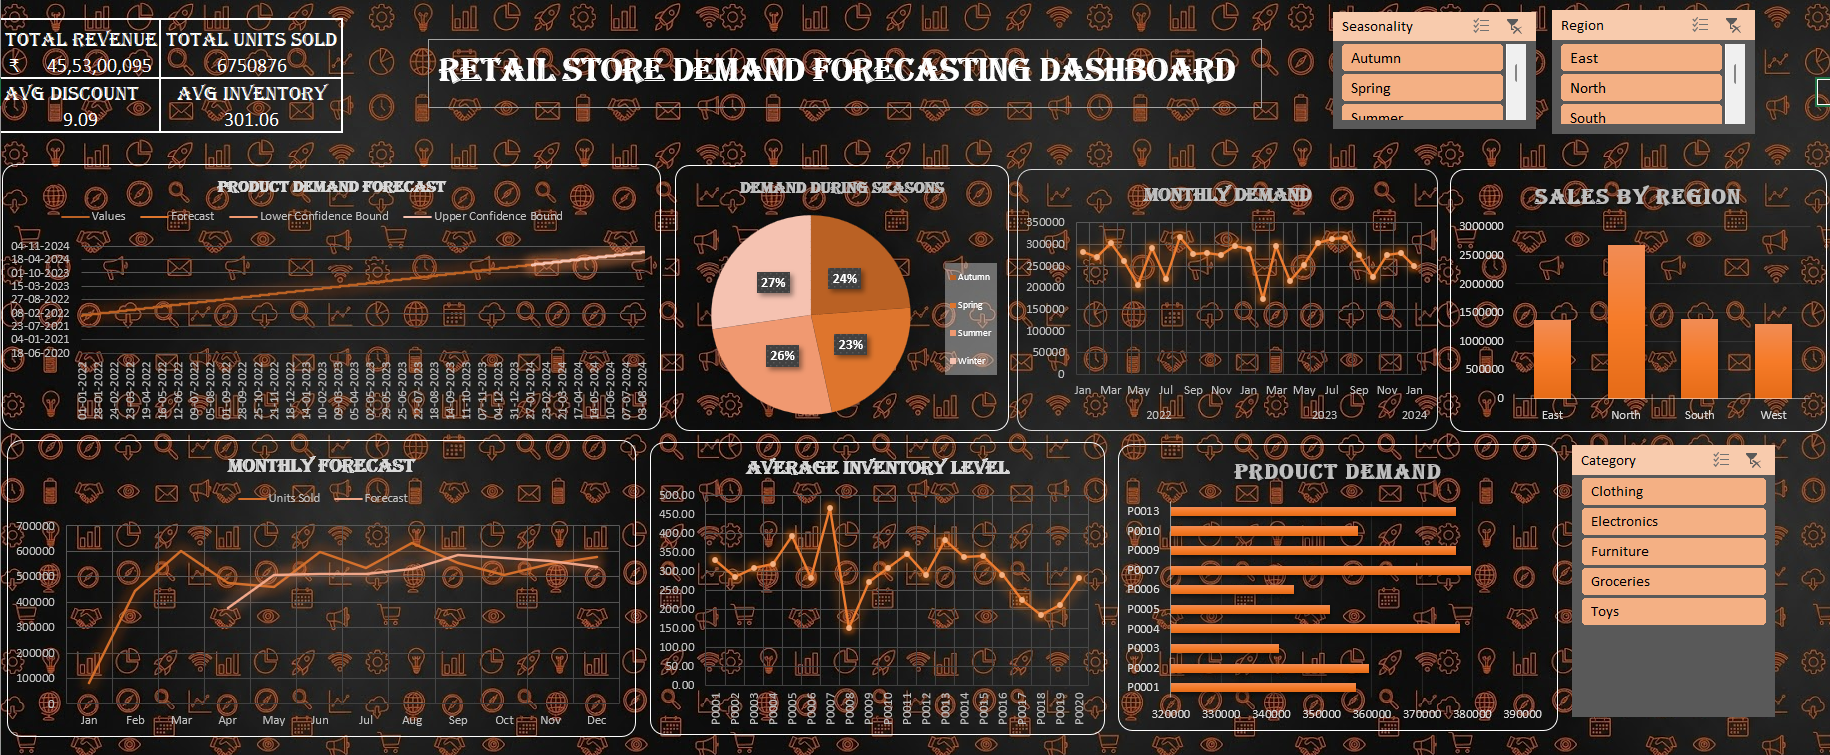

Layout of this report page (visuals, bound fields, positions):
{"tool":"tableau","page":{"name":"Dashboard 1","canvas":[1000,1000],"units":"permille","ordinal":0},"visuals":[{"type":"title","box":[5,10.1,989.9,73.4]},{"type":"image","param":"C:/Users/yasmi/Downloads/Gemini_Generated_Image_971kti971kti971k.png","box":[5,83.5,989.9,906.3]},{"type":"worksheet","title":"Sheet 9","mark":"Automatic","box":[171.3,106.3,158.1,134.2]},{"type":"worksheet","title":"Sheet 10","mark":"Automatic","box":[340.7,106.3,174.4,135.4]},{"type":"worksheet","title":"Sheet 8","mark":"Automatic","box":[23.3,107.6,134.1,131.7]},{"type":"worksheet","title":"Sheet 11","mark":"Automatic","box":[532.1,110.1,163.7,132.9]},{"type":"worksheet","title":"Sheet 12","mark":"Automatic","box":[711.6,111.4,150.5,136.7]},{"type":"worksheet","title":"Sheet 1","mark":"Automatic","rows":["Units Sold"],"cols":["Date"],"box":[13.8,262,333.1,338]},{"type":"worksheet","title":"Sheet 2","mark":"Automatic","rows":["Units Sold"],"cols":["Category"],"box":[355.2,264.6,337.5,335.4]},{"type":"worksheet","title":"Sheet 5","mark":"Pie","box":[701.5,264.6,193.3,334.2]},{"type":"legend","title":"Sheet 7","param":"[federated.03juvhy0zo3us919qz52d1acs5ot].[none:Region:nk]","box":[812.3,613.9,88.2,159.5]},{"type":"worksheet","title":"Sheet 3","mark":"Automatic","rows":["Units Ordered"],"cols":["Date"],"box":[14.5,617.7,333.1,336.7]},{"type":"worksheet","title":"Sheet 7","mark":"Area","rows":["Units Sold"],"cols":["Date"],"box":[364,617.7,333.1,332.9]},{"type":"legend","title":"Sheet 1","param":"[federated.03juvhy0zo3us919qz52d1acs5ot].[none:Forecast Indicator:nk]","box":[704,620.2,98.9,97.5]},{"type":"legend","title":"Sheet 3","param":"[federated.03juvhy0zo3us919qz52d1acs5ot].[none:Category:nk]","box":[746.9,774.7,88.2,191.1]}]}

Visuals, with their boxes on the dashboard's canvas, which has no fixed pixel size, in thousandths of its width and height (x1, y1, x2, y2). These are canvas units, not pixel positions in the 1830x755 screenshot, which may show the page scaled, cropped or inside an application window:
title: [5,10,995,84]
image: [5,84,995,990]
"Sheet 9" worksheet: [171,106,329,240]
"Sheet 10" worksheet: [341,106,515,242]
"Sheet 8" worksheet: [23,108,157,239]
"Sheet 11" worksheet: [532,110,696,243]
"Sheet 12" worksheet: [712,111,862,248]
"Sheet 1" worksheet: [14,262,347,600]
"Sheet 2" worksheet: [355,265,693,600]
"Sheet 5" worksheet (Pie marks): [702,265,895,599]
"Sheet 7" legend: [812,614,900,773]
"Sheet 3" worksheet: [14,618,348,954]
"Sheet 7" worksheet (Area marks): [364,618,697,951]
"Sheet 1" legend: [704,620,803,718]
"Sheet 3" legend: [747,775,835,966]
